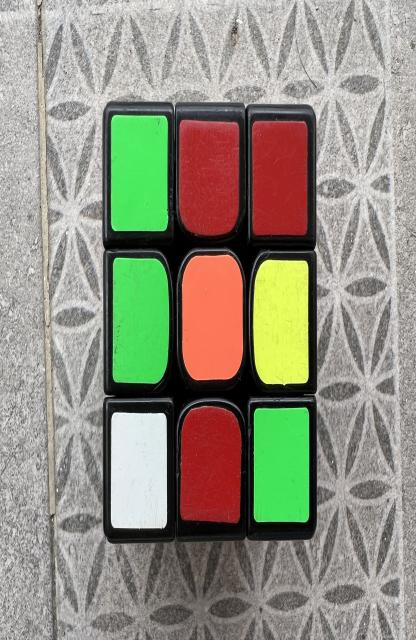Green: (113, 257, 169, 383), (111, 115, 168, 232), (254, 407, 310, 523)
Orange: (182, 255, 244, 380)
Red: (179, 120, 240, 237), (180, 407, 241, 523), (253, 120, 307, 235)
White: (110, 412, 167, 528)
Yellow: (254, 260, 309, 385)
